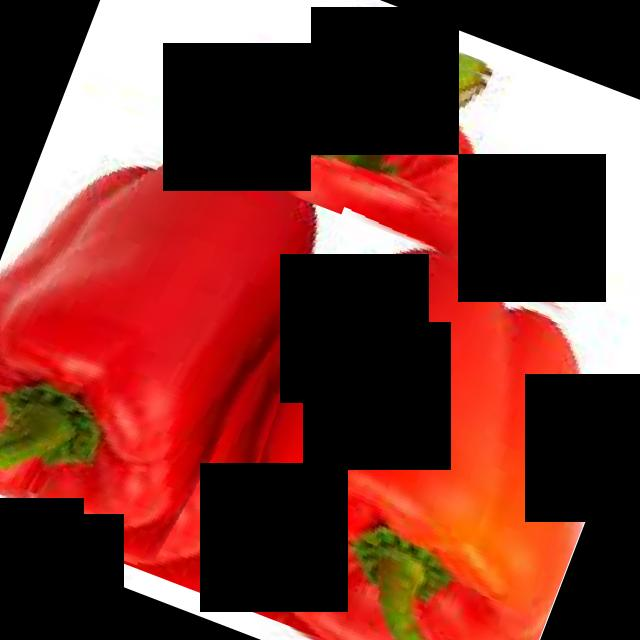pepper: (196, 207, 640, 640), (0, 88, 359, 596), (199, 0, 573, 277)
